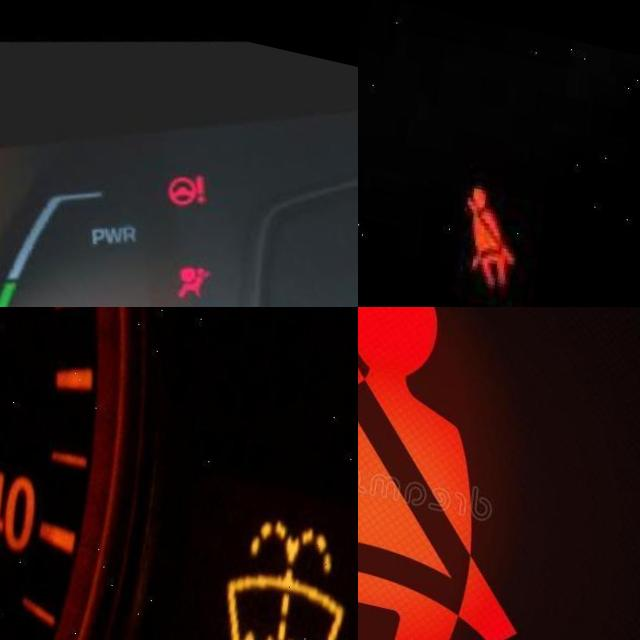Seat Belt: (358, 307, 557, 640), (460, 177, 530, 283)
Washer Fluid: (220, 493, 358, 640)
